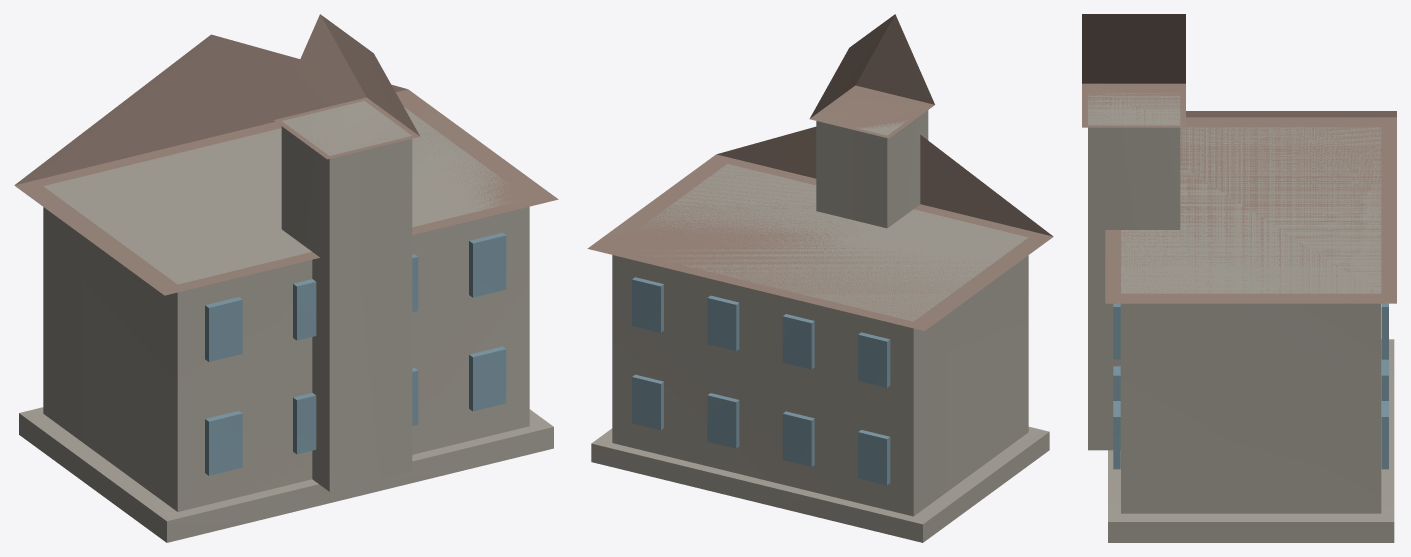
Rendered from church-02.glb.
3 renders of one model, left to right at view 1: azimuth 30°, elevation 25°; view 2: azimuth 150°, elevation 25°; view 3: azimuth 270°, elevation 25°, orthographic. The views are drawn at different scales.
Visible parts, largest first — view 1: world; view 2: world; view 3: world.
Part boxes in pixels (x1,y1,x2,y2): world: (14, 14, 558, 542); world: (587, 14, 1053, 542); world: (1082, 14, 1396, 542).
Bounding box in the file's own units: 1.52 × 1.67 × 1.09.
